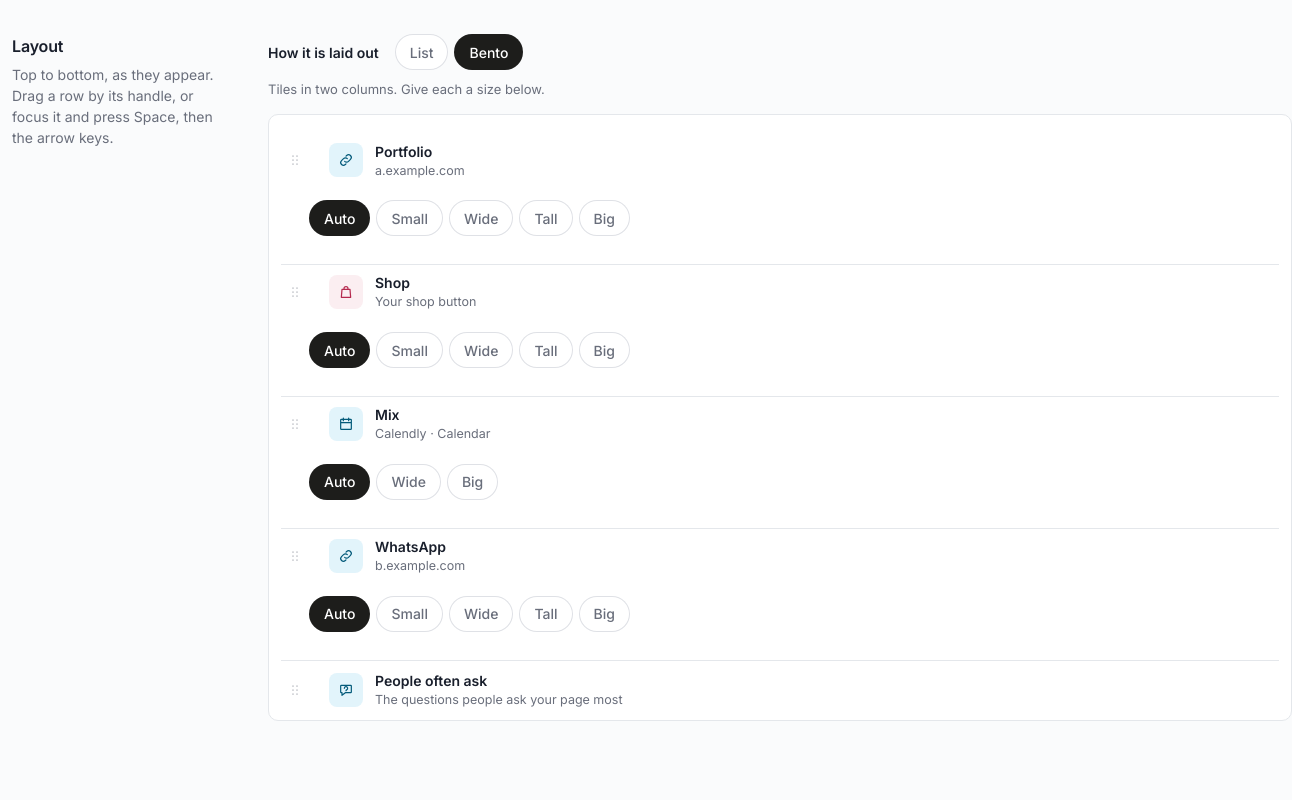
Test: LayoutEditor, List or Bento › shows the error when a size does not save
Click the radio button labelled "Big" below "Portfolio": (604, 218) [578,200,630,236]
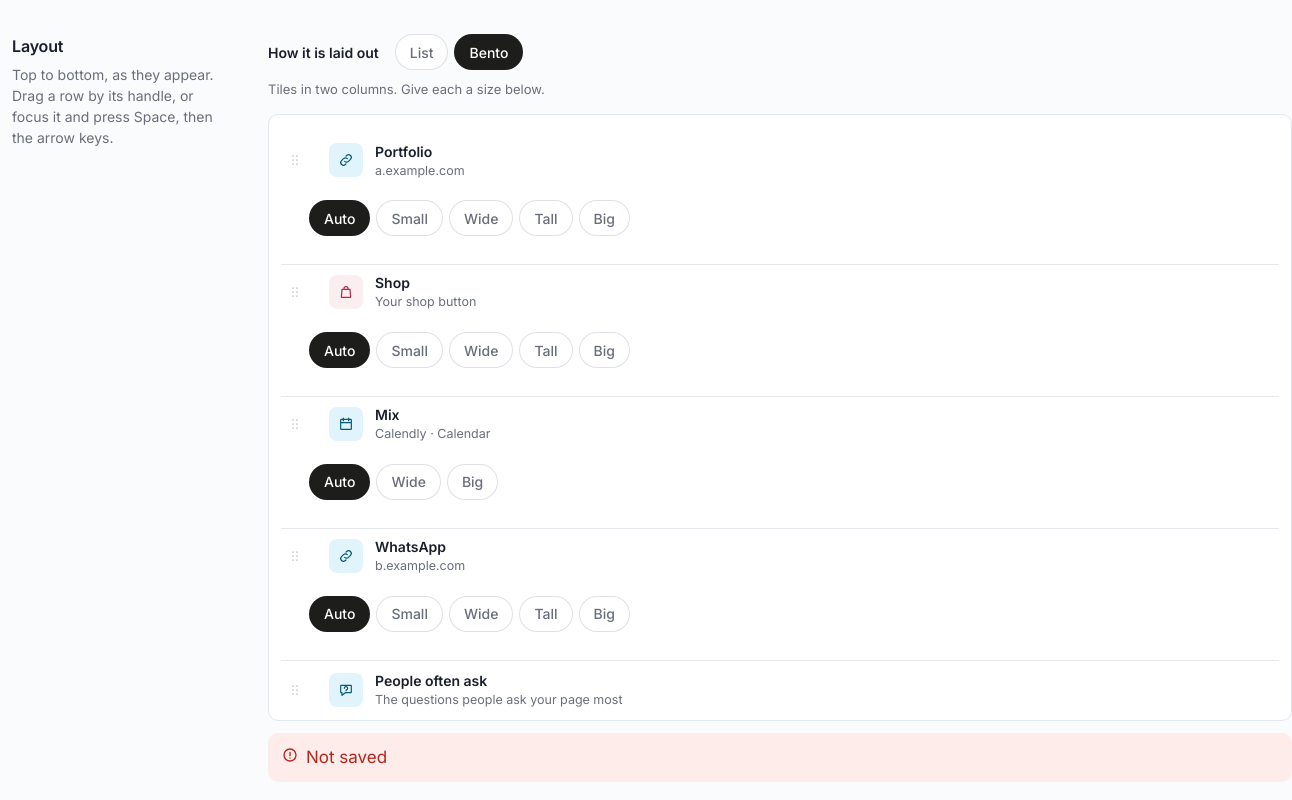
Expected: the text "Not saved" is shown, [306,746,387,766]
